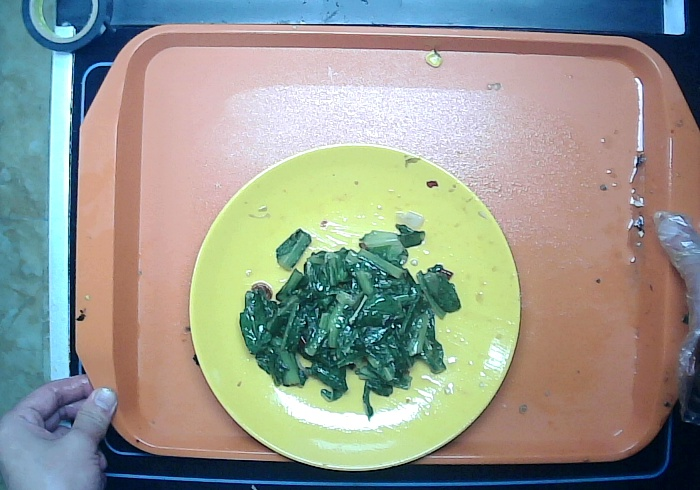HZYJPL-Huang_Se_Yuan_Pan: (185, 142, 523, 474)
